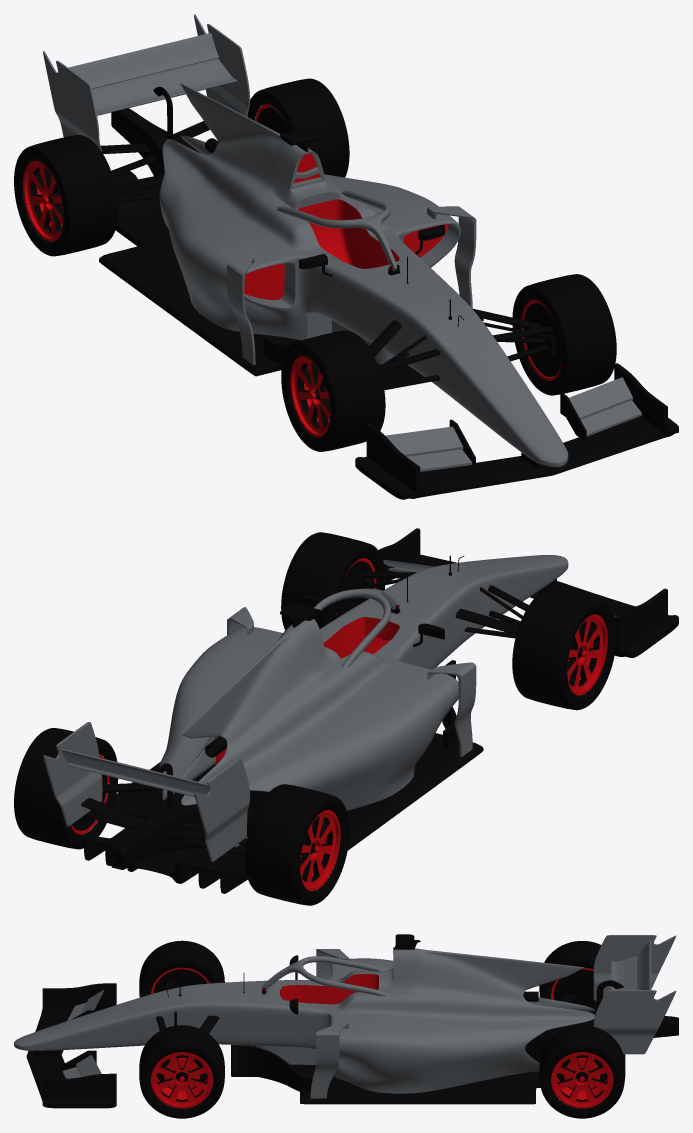
The model's file is Women_accessory_Audi_px68_py15_pz-30_s0d3_5000.66bcadba.glb.
3 renders of one model, top to bottom at view 1: azimuth 30°, elevation 25°; view 2: azimuth 150°, elevation 25°; view 3: azimuth 270°, elevation 25°, orthographic. The views are drawn at different scales.
Parts seen in each view (by area): view 1: _gltfNode_0, _gltfNode_3, _gltfNode_13, _gltfNode_16, _gltfNode_4, _gltfNode_2, _gltfNode_10, _gltfNode_1, _gltfNode_14, _gltfNode_17; view 2: _gltfNode_0, _gltfNode_3, _gltfNode_16, _gltfNode_13, _gltfNode_4, _gltfNode_17, _gltfNode_14, _gltfNode_2, _gltfNode_10; view 3: _gltfNode_0, _gltfNode_3, _gltfNode_13, _gltfNode_4, _gltfNode_16, _gltfNode_10, _gltfNode_14, _gltfNode_17, _gltfNode_2, _gltfNode_9.
Boxes of the visible parts, x1,y1,x2,y2 form: _gltfNode_0: (43, 14, 641, 471); _gltfNode_3: (99, 86, 553, 468); _gltfNode_13: (281, 274, 616, 451); _gltfNode_16: (14, 78, 349, 256); _gltfNode_4: (355, 363, 678, 499); _gltfNode_2: (298, 199, 399, 268); _gltfNode_10: (47, 107, 561, 401); _gltfNode_1: (244, 153, 448, 300); _gltfNode_14: (290, 299, 561, 437); _gltfNode_17: (23, 104, 284, 241); _gltfNode_0: (43, 555, 616, 861); _gltfNode_3: (81, 555, 556, 893); _gltfNode_16: (14, 728, 349, 905); _gltfNode_13: (281, 532, 616, 710); _gltfNode_4: (378, 528, 678, 657); _gltfNode_17: (71, 754, 340, 890); _gltfNode_14: (336, 558, 607, 695); _gltfNode_2: (323, 617, 399, 658); _gltfNode_10: (72, 561, 583, 855); _gltfNode_0: (14, 935, 676, 1098); _gltfNode_3: (35, 934, 678, 1104); _gltfNode_13: (139, 940, 224, 1118); _gltfNode_4: (26, 983, 116, 1108); _gltfNode_16: (539, 941, 625, 1118); _gltfNode_10: (153, 969, 607, 1089); _gltfNode_14: (151, 967, 213, 1108); _gltfNode_17: (551, 967, 613, 1108); _gltfNode_2: (280, 974, 378, 1004); _gltfNode_9: (164, 1058, 600, 1091).
Size of the model in its own units: 170 by 99.24 by 463.
